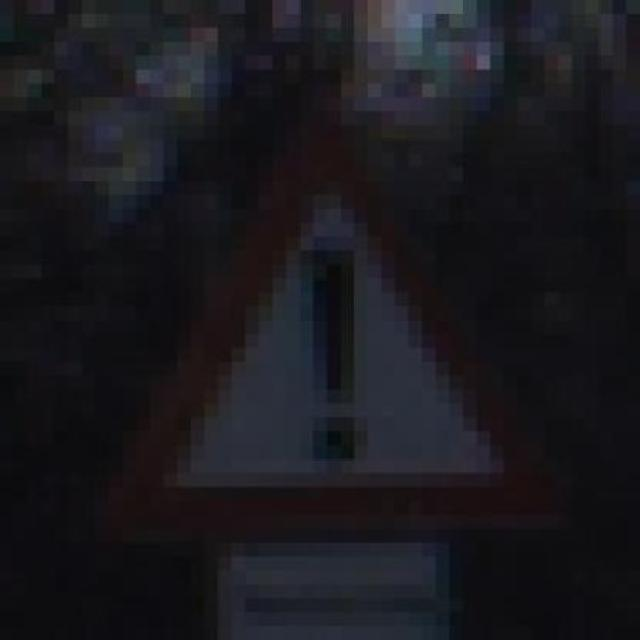Attention Please-: (54, 111, 586, 543)
